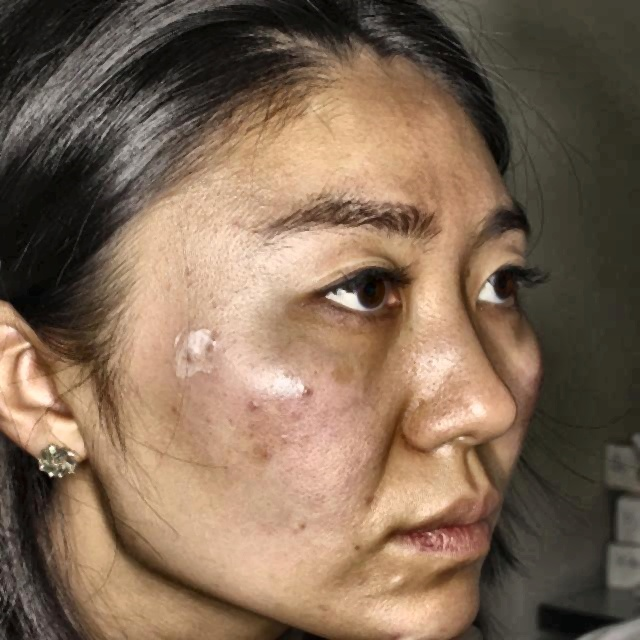comedone: (390, 569, 416, 597), (243, 390, 262, 418), (300, 377, 319, 405)
